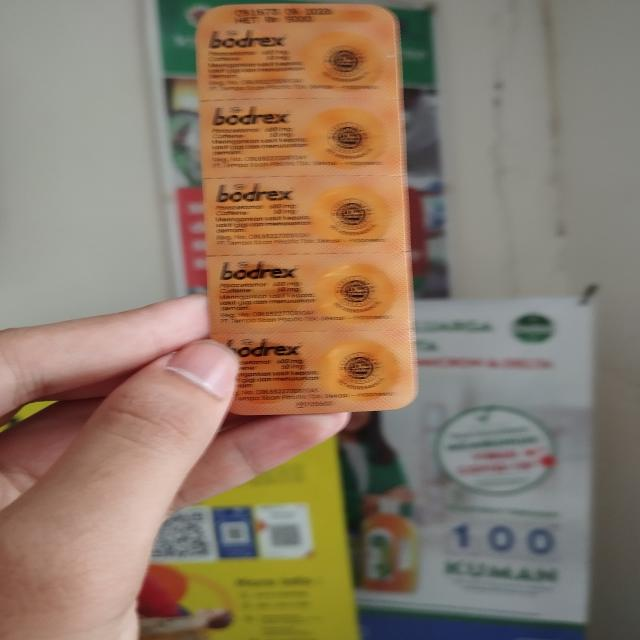B3: (193, 6, 420, 414)
